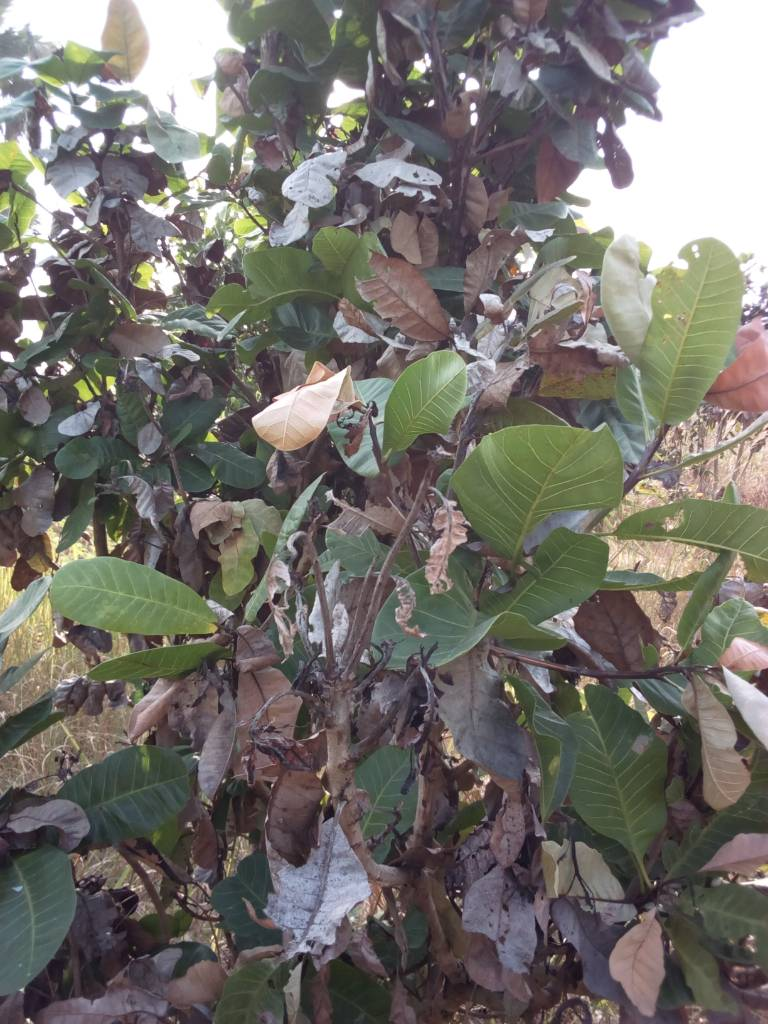Dessèchement des bourgeons: (207, 699, 280, 874)
